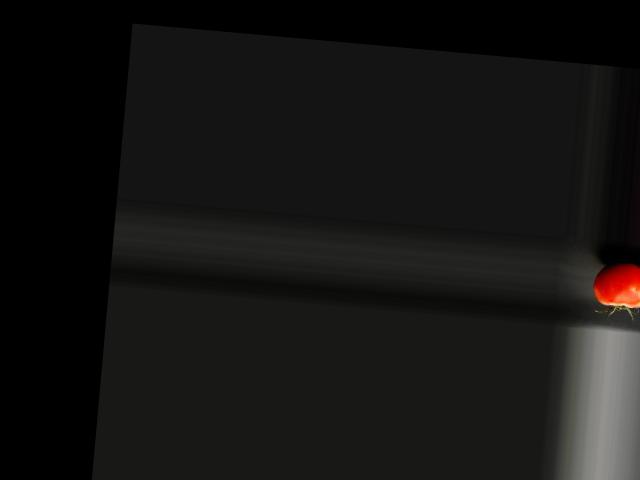tomato: (592, 260, 640, 309)
